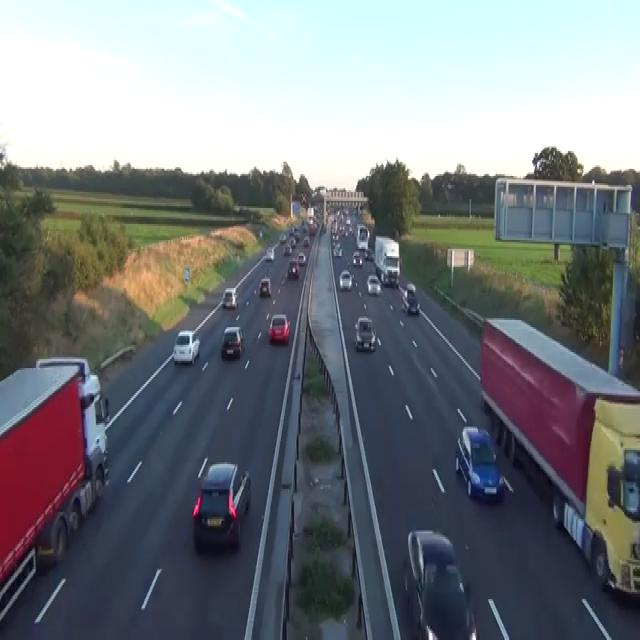Car: (280, 486, 366, 638), (403, 528, 478, 638), (192, 460, 251, 550), (454, 425, 504, 501), (172, 329, 200, 364), (221, 325, 245, 359), (354, 316, 375, 351), (268, 313, 290, 343), (401, 282, 420, 314), (222, 286, 238, 308), (366, 274, 381, 295), (339, 270, 352, 290), (480, 390, 491, 412), (259, 277, 271, 297), (287, 260, 299, 279), (307, 217, 316, 235), (352, 250, 362, 266), (405, 281, 416, 295), (265, 246, 274, 262), (297, 251, 306, 265), (332, 244, 342, 256), (364, 247, 373, 260), (300, 192, 308, 206), (441, 182, 455, 190), (283, 244, 292, 256), (331, 233, 339, 243), (279, 233, 286, 243), (289, 237, 296, 247), (303, 235, 309, 245), (321, 222, 326, 233), (294, 231, 299, 242), (302, 224, 308, 233), (345, 217, 351, 224), (259, 228, 262, 236)
Truck: (479, 315, 639, 599), (0, 356, 110, 624), (373, 235, 400, 286), (355, 224, 369, 251)
